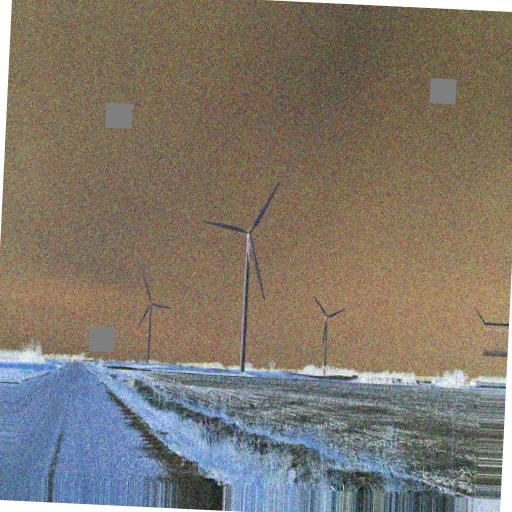wind turbine: (202, 182, 281, 364), (134, 272, 176, 354), (311, 295, 347, 360)
